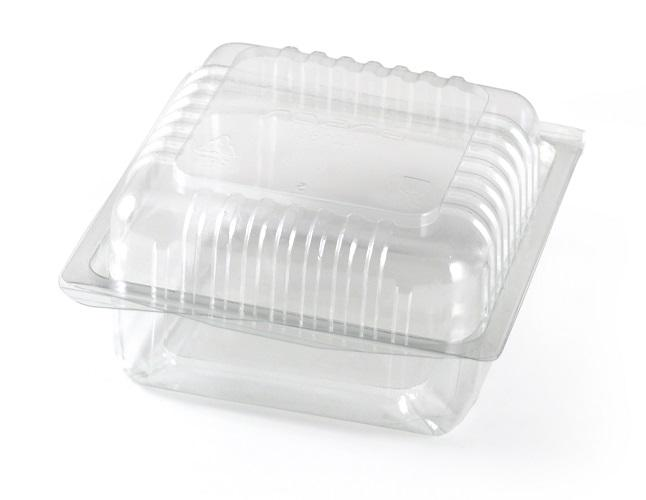PlasticBox: (53, 39, 591, 443)
